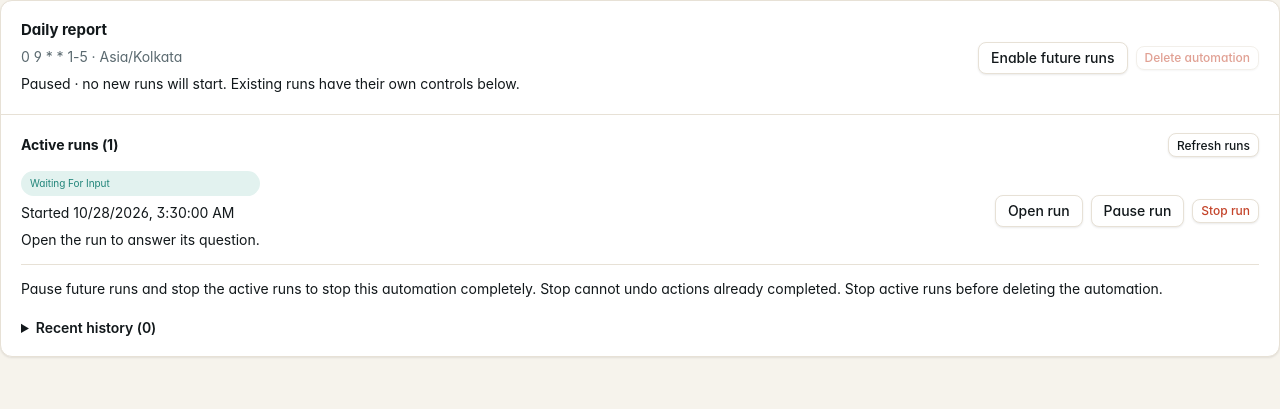
Test: recurring automation management › pauses only the chosen execution and provides a link for resuming its budget
Step 1. Click the button "Pause run" → (1137, 211), box [1091, 195, 1184, 227]
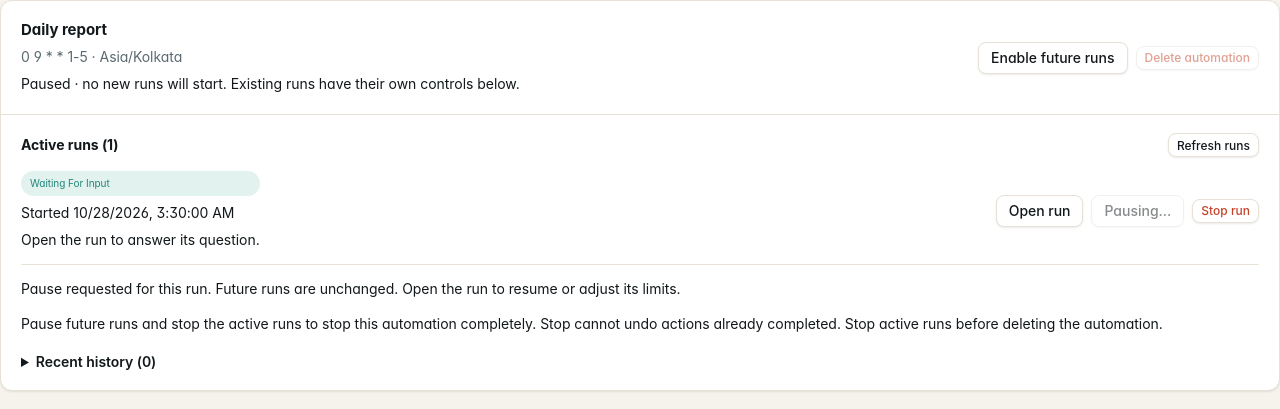
Step 2. Click the button "Refresh runs" → (1213, 145), box [1168, 133, 1259, 157]
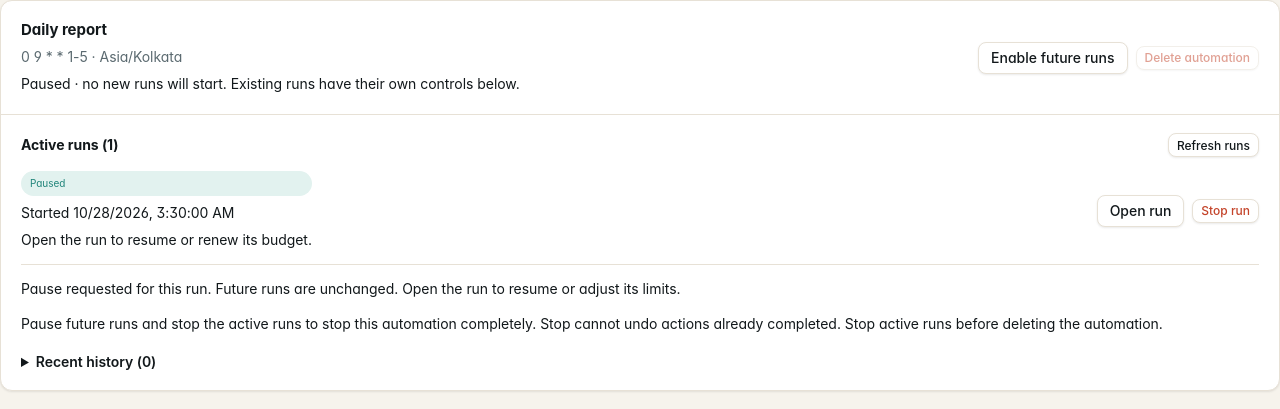
Expected: the button "Pause run" is not shown
Now the text "paused" is shown, box [21, 171, 312, 196]
Now the text "Open the run to resume or renew its budget." is shown, box [21, 230, 312, 250]
